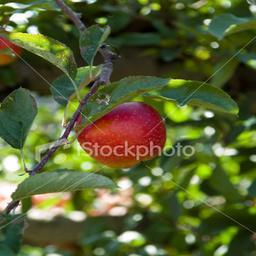apple: (76, 100, 167, 169)
